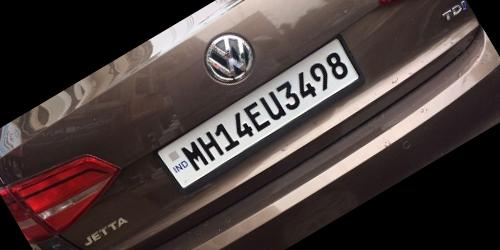plate: (151, 26, 381, 202)
